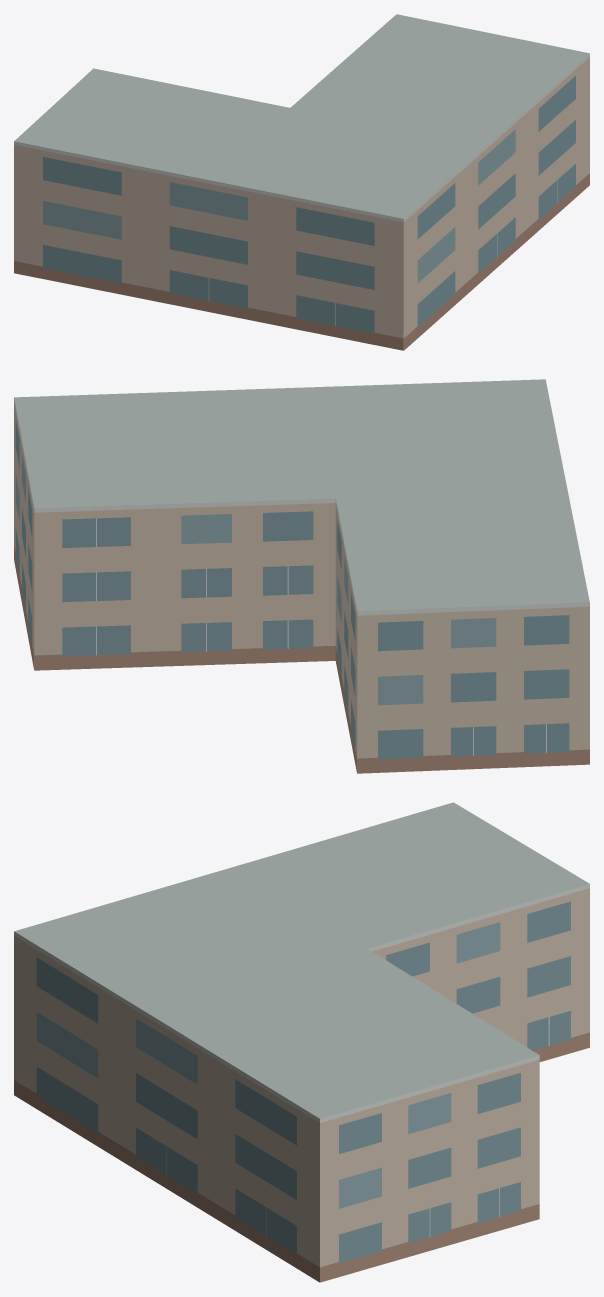
The model's file is survey-upis-32725889.glb.
3 views of the same model, one above another, from view 1: azimuth 30°, elevation 25°; view 2: azimuth 150°, elevation 25°; view 3: azimuth 270°, elevation 25° (orthographic). The views are drawn at different scales.
Visible parts, largest first — view 1: survey-upis-32725889.tmp; view 2: survey-upis-32725889.tmp; view 3: survey-upis-32725889.tmp.
Part boxes in pixels (<box>): survey-upis-32725889.tmp: <box>14,14,589,350</box>; survey-upis-32725889.tmp: <box>14,379,589,773</box>; survey-upis-32725889.tmp: <box>14,802,589,1282</box>.
Bounding box in the file's own units: 37.9 × 9.15 × 29.15.
